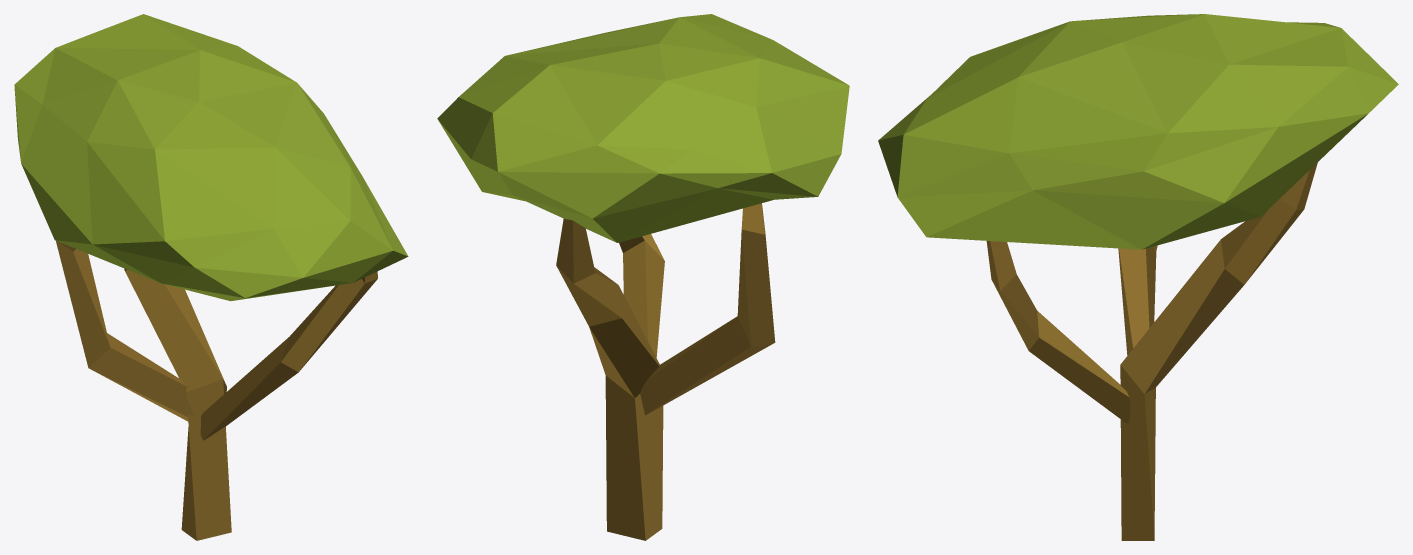
Rendered from AcaciaTree_2.fbx.
3 views of the same model, side by side, from view 1: azimuth 30°, elevation 25°; view 2: azimuth 150°, elevation 25°; view 3: azimuth 270°, elevation 25° (orthographic). The views are drawn at different scales.
Parts seen in each view (by area): view 1: Leaves, Branch.001, Branch, Branch.002; view 2: Leaves, Branch.001, Branch, Branch.002; view 3: Leaves, Branch.001, Branch.002, Branch.
Boxes of the visible parts, x1,y1,x2,y2 form: Leaves: (14,14,408,301); Branch.001: (124,268,231,540); Branch: (56,241,193,421); Branch.002: (200,271,377,440); Leaves: (437,14,849,242); Branch.001: (556,219,663,540); Branch: (640,203,775,415); Branch.002: (619,234,664,357); Leaves: (878,14,1398,249); Branch.001: (1120,162,1317,540); Branch.002: (986,241,1130,423); Branch: (1118,245,1157,355).
Bounding box in the file's own units: 300 × 425 × 413.
